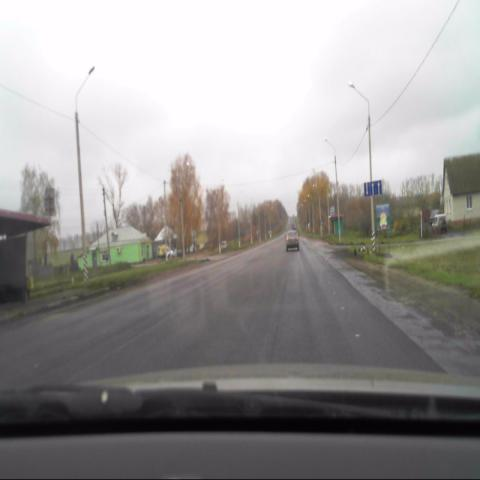5_15_7: (362, 180, 382, 197)
